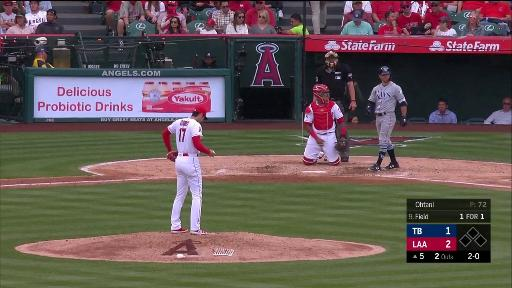pitcher: (162, 107, 218, 235)
